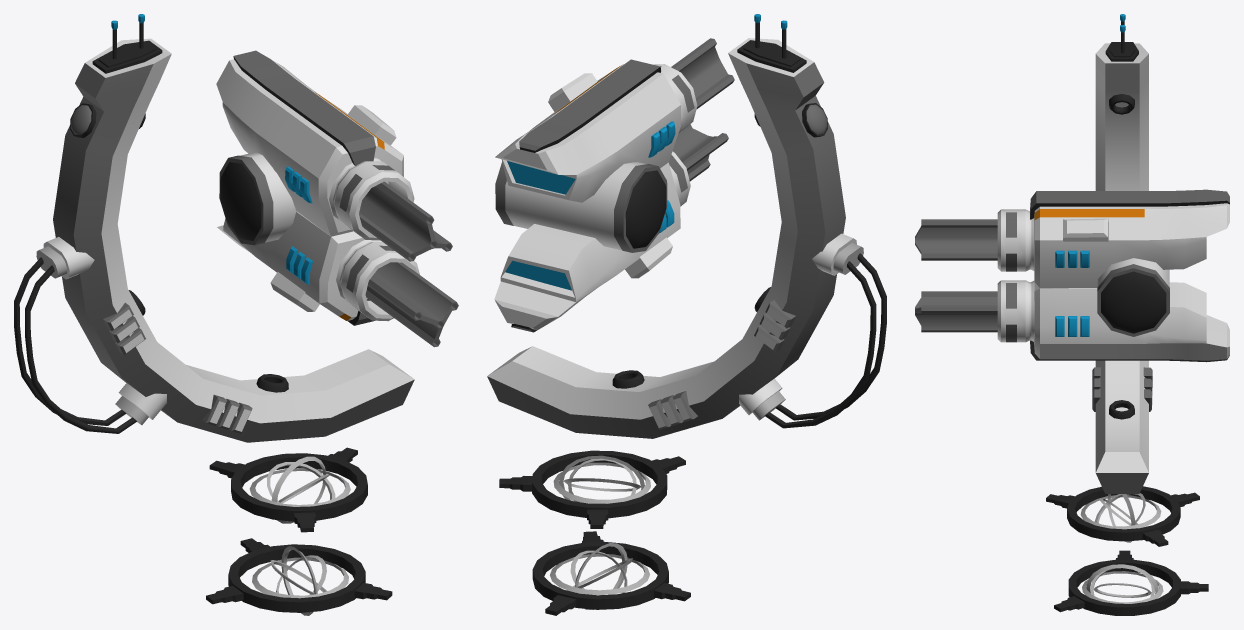
Rendered from tower_gatling_upgrade1_asset.fbx.
3 views of the same model, side by side, from view 1: azimuth 30°, elevation 25°; view 2: azimuth 150°, elevation 25°; view 3: azimuth 270°, elevation 25° (orthographic). The views are drawn at different scales.
Parts seen in each view (by area): view 1: gatling_body, gatling_gun; view 2: gatling_body, gatling_gun; view 3: gatling_gun, gatling_body.
Part boxes in pixels (box(x1,y1,x2,y2)): gatling_body: box(14, 14, 414, 615); gatling_gun: box(216, 50, 458, 347); gatling_body: box(487, 14, 886, 615); gatling_gun: box(494, 38, 734, 332); gatling_gun: box(915, 189, 1229, 362); gatling_body: box(1046, 14, 1208, 615).
Bounding box in the file's own units: 167 × 266 × 144.
